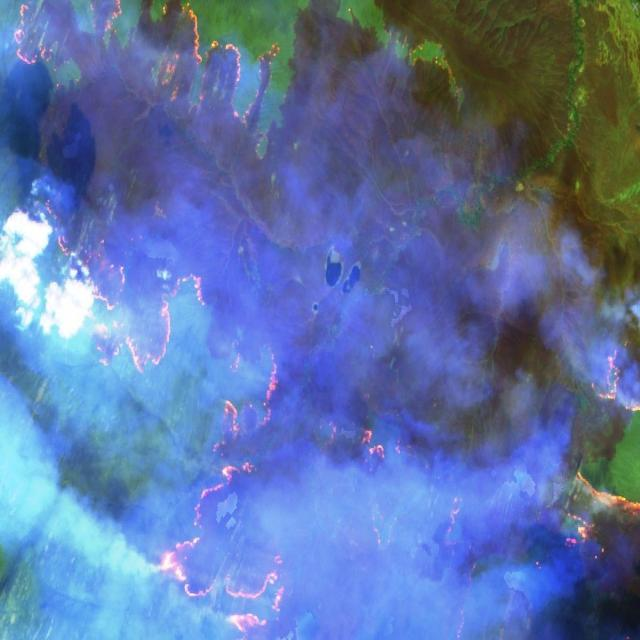fire: (8, 0, 285, 376), (153, 379, 291, 640), (560, 342, 640, 560)
